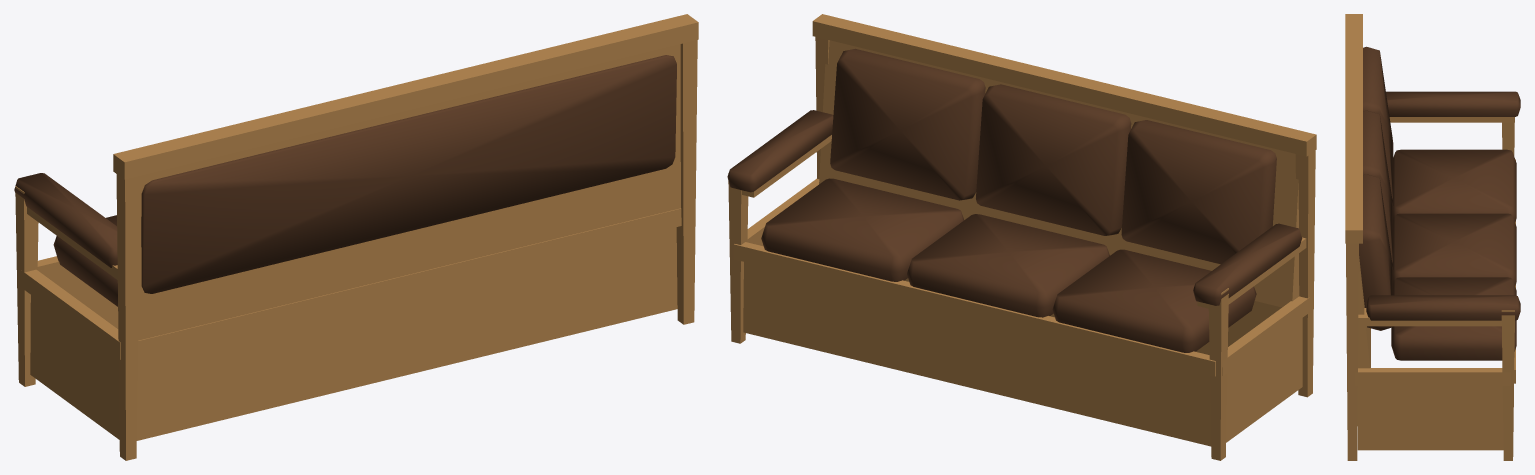
The model's file is parametric-settee-3rd.glb.
The picture shows the model from 3 angles, left to right: view 1: azimuth 30°, elevation 25°; view 2: azimuth 150°, elevation 25°; view 3: azimuth 270°, elevation 25°; orthographic projection. The views are drawn at different scales.
Parts seen in each view (by area): view 1: parametric-settee-3rd; view 2: parametric-settee-3rd; view 3: parametric-settee-3rd.
Part boxes in pixels (left/top/right/bottom): parametric-settee-3rd: left=14, top=14, right=698, bottom=460; parametric-settee-3rd: left=727, top=14, right=1316, bottom=460; parametric-settee-3rd: left=1345, top=14, right=1520, bottom=460.
Size of the model in its own units: 1.9 by 0.95 by 0.65.
